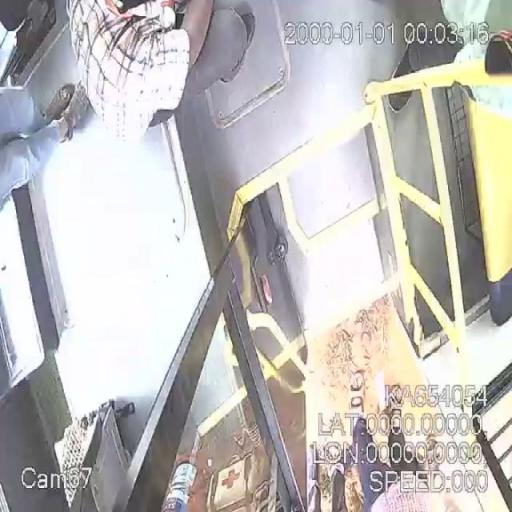persona: (64, 0, 192, 144), (342, 373, 466, 512)
